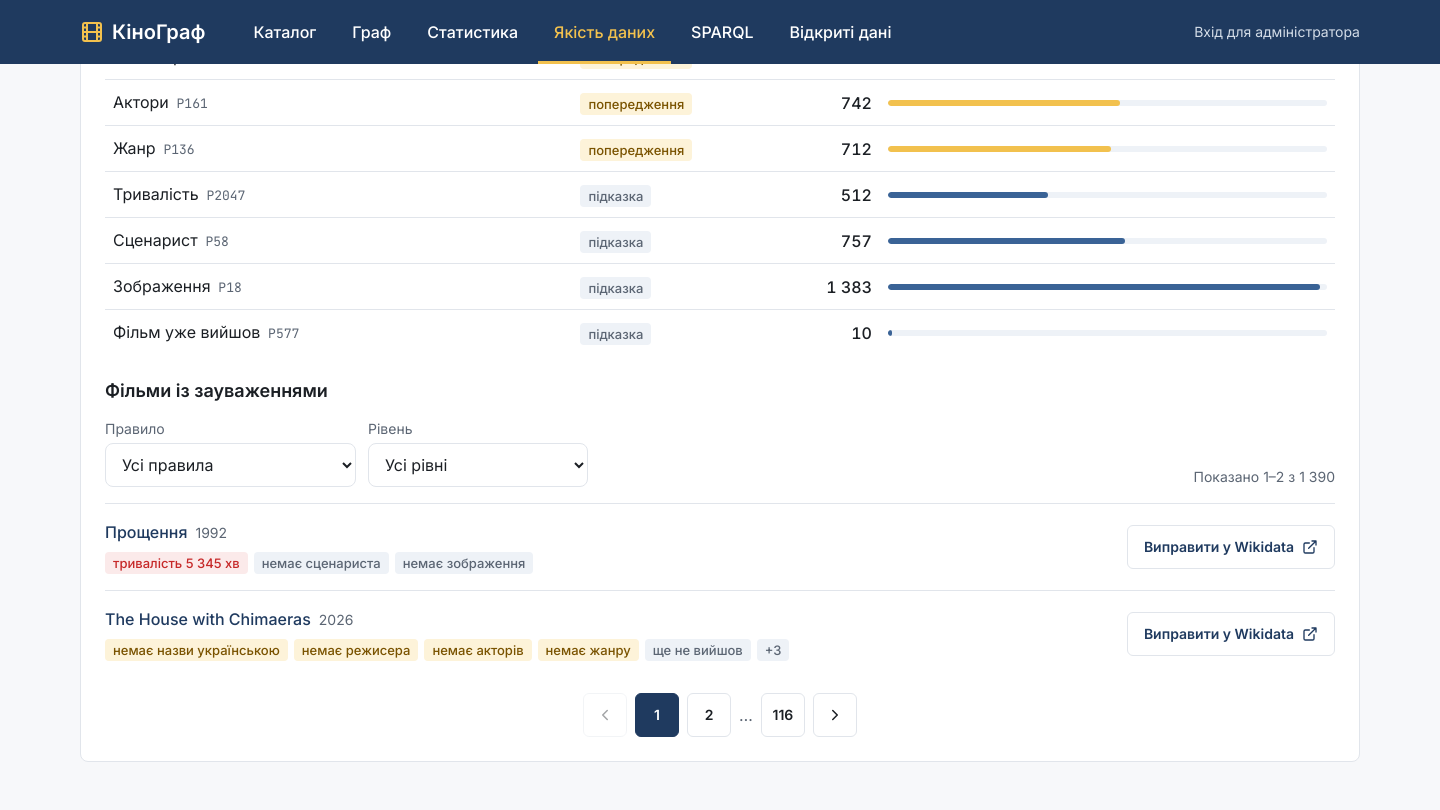
Scenario: перевірка за правилами › гортає сторінки по 12 фільмів
(page scrolled)
Expected: the text "Показано 1–2 з 1 390" is shown, [1194,467,1335,487]
Expected: the button "116" is shown, [761,693,805,737]
Click the button named "Наступна сторінка": (835, 715) [813,693,857,737]
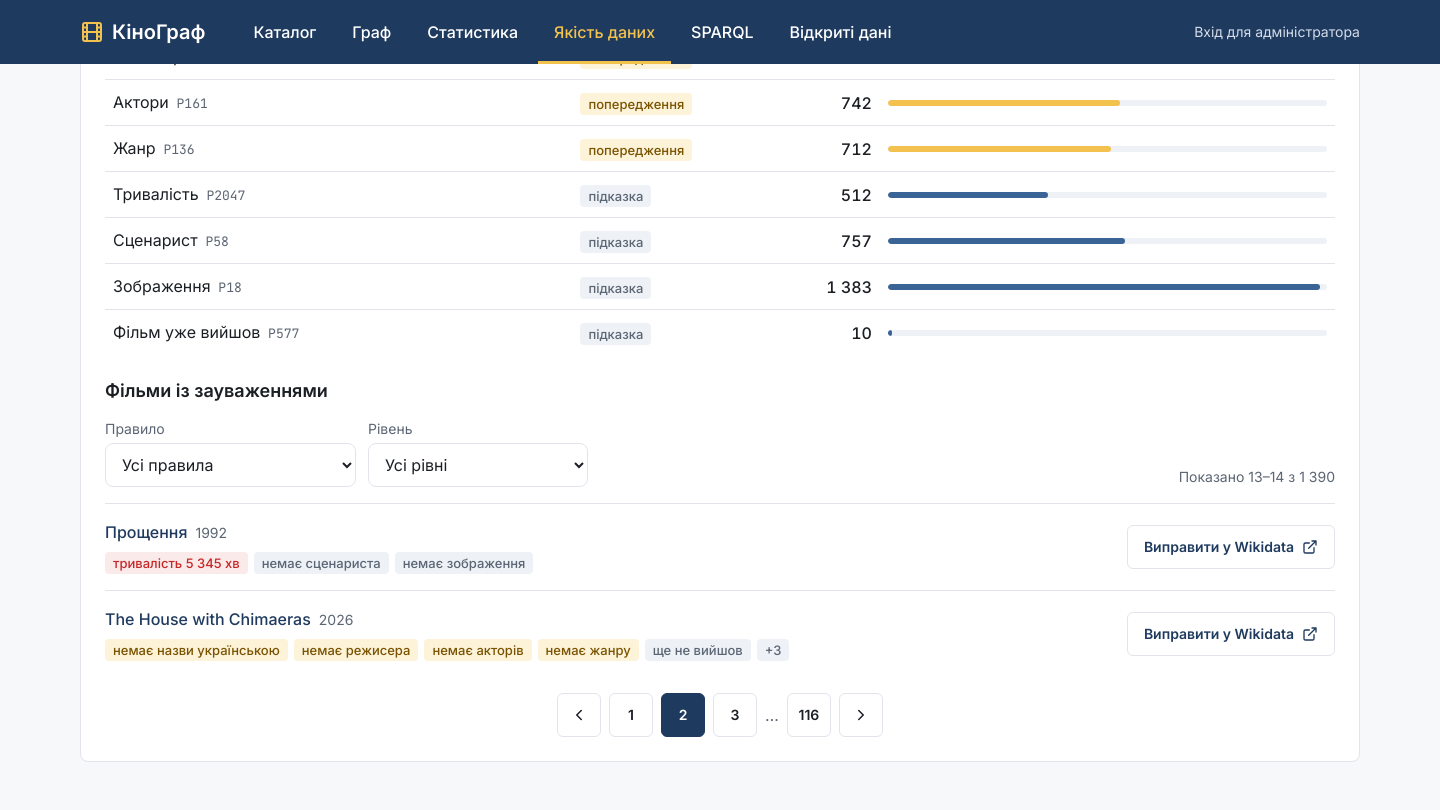
Expected: the text "Показано 13–14 з 1 390" is shown, [1179,467,1335,487]
